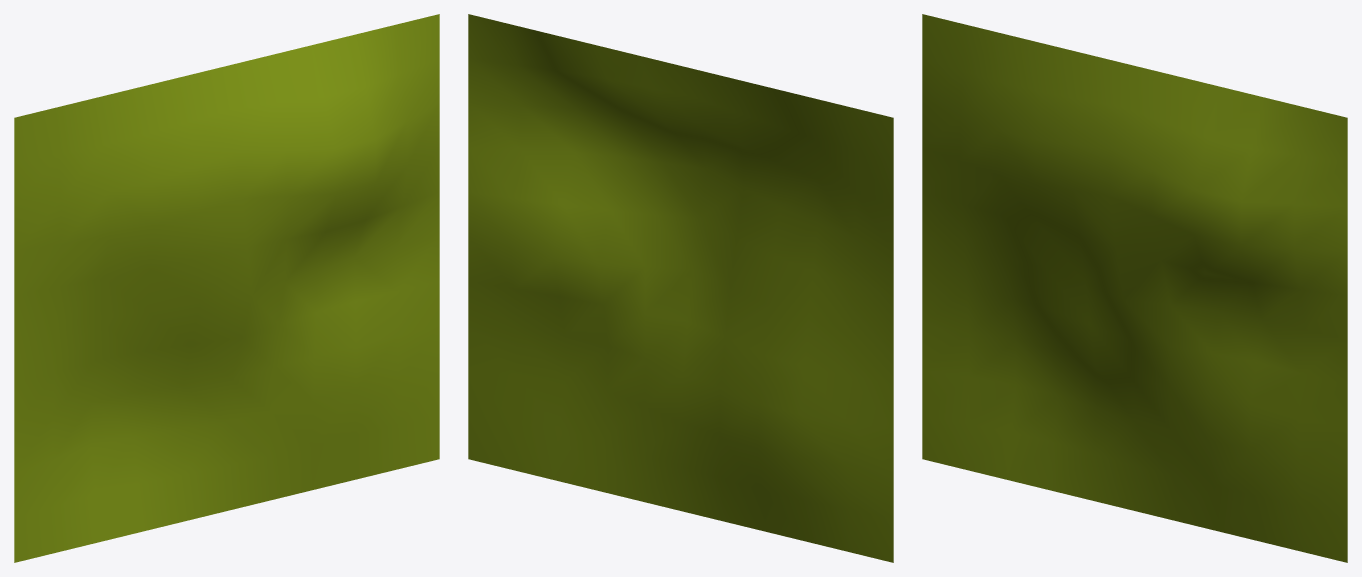
File: plains (1).dae
3 renders of one model, left to right at view 1: azimuth 30°, elevation 25°; view 2: azimuth 150°, elevation 25°; view 3: azimuth 330°, elevation 25°, orthographic.
Parts seen in each view (by area): view 1: plains; view 2: plains; view 3: plains.
Boxes of the visible parts, bbox=[...] form: plains: bbox=[14, 14, 439, 562]; plains: bbox=[468, 14, 893, 562]; plains: bbox=[922, 14, 1347, 562].
Size of the model in its own units: 1 by 1 by 0.1357.
1 material, 1 textured.
